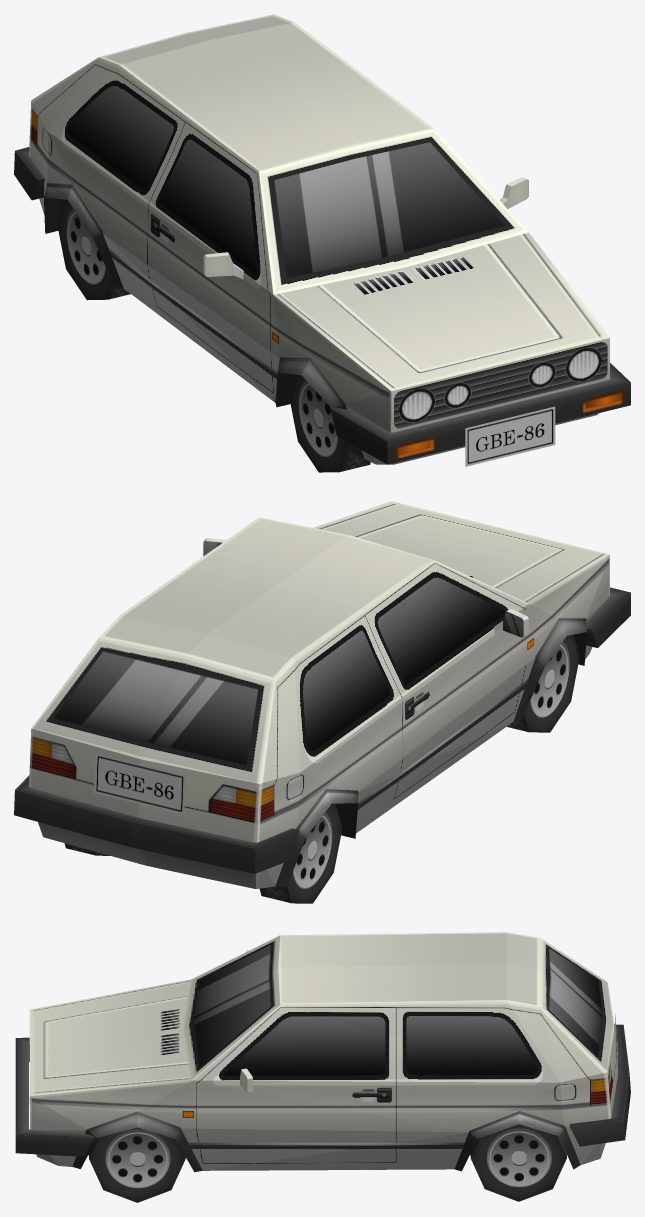
Rendered from car.obj.
3 renders of one model, top to bottom at view 1: azimuth 30°, elevation 25°; view 2: azimuth 150°, elevation 25°; view 3: azimuth 270°, elevation 25°, orthographic. The views are drawn at different scales.
Parts seen in each view (by area): view 1: Car_Main_Cube, Wheel2, License_Plate_Front_Cube.008, Wheel4; view 2: Car_Main_Cube, License_Plate_Back_Cube.010, Wheel4, Wheel2; view 3: Car_Main_Cube, Wheel3, Wheel1.
Boxes of the visible parts, x1,y1,x2,y2 form: Car_Main_Cube: [14, 14, 630, 464]; Wheel2: [289, 374, 370, 472]; License_Plate_Front_Cube.008: [465, 406, 555, 466]; Wheel4: [57, 199, 130, 300]; Car_Main_Cube: [14, 501, 630, 888]; License_Plate_Back_Cube.010: [94, 753, 185, 814]; Wheel4: [259, 803, 342, 903]; Wheel2: [507, 634, 579, 732]; Car_Main_Cube: [15, 932, 630, 1172]; Wheel3: [470, 1124, 566, 1201]; Wheel1: [89, 1127, 185, 1202].
Size of the model in its own units: 1.95 by 1.36 by 3.95.
1 material, 1 textured.
